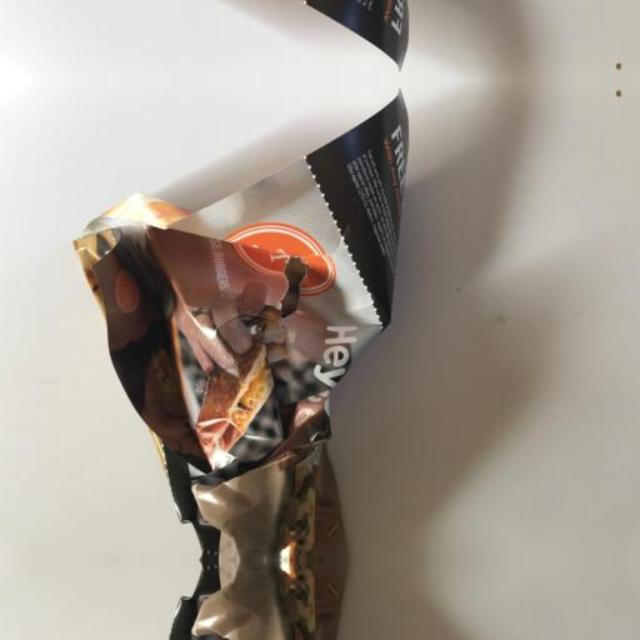paper: (42, 92, 468, 560), (42, 559, 467, 640), (42, 0, 467, 68)
